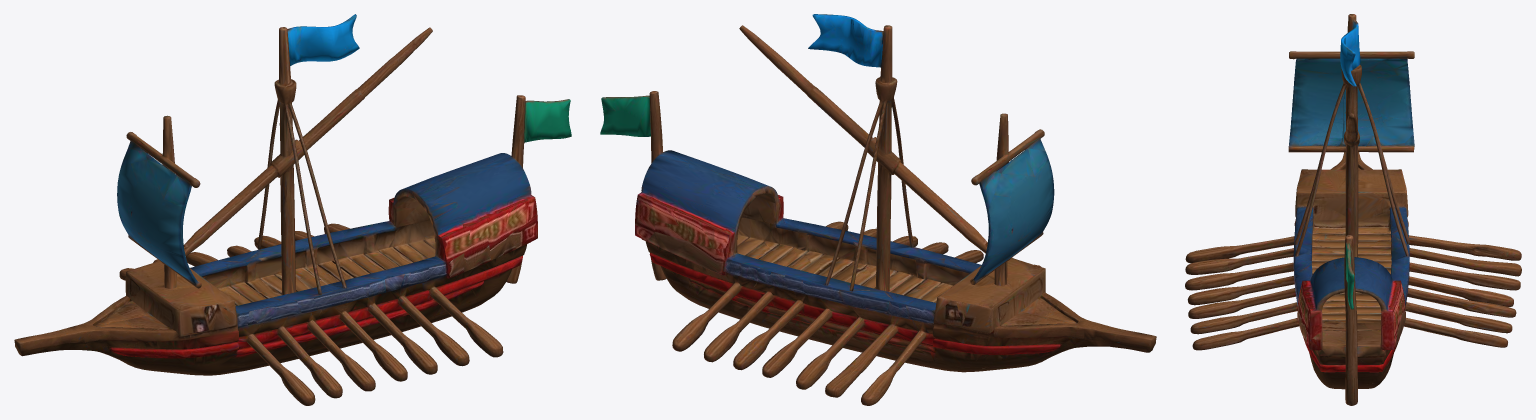
The model's file is m_galley_animated.glb.
3 renders of one model, left to right at view 1: azimuth 30°, elevation 25°; view 2: azimuth 150°, elevation 25°; view 3: azimuth 270°, elevation 25°, orthographic. The views are drawn at different scales.
Parts seen in each view (by area): view 1: m_galley_Living_Scenery; view 2: m_galley_Living_Scenery; view 3: m_galley_Living_Scenery.
Part boxes in pixels (bbox=[...]): m_galley_Living_Scenery: bbox=[14, 14, 571, 405]; m_galley_Living_Scenery: bbox=[600, 14, 1156, 405]; m_galley_Living_Scenery: bbox=[1185, 14, 1521, 405].
Bounding box in the file's own units: 0.9995 × 0.5421 × 0.5683.
1 material, 1 textured.
